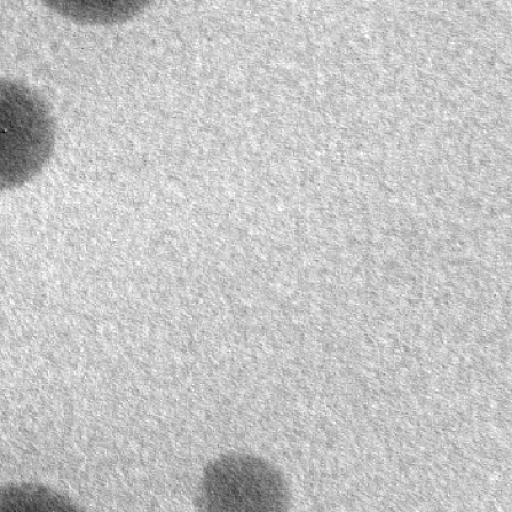Nanoparticles: (0, 75, 59, 193), (197, 448, 294, 512), (41, 0, 152, 31), (0, 477, 81, 512)
